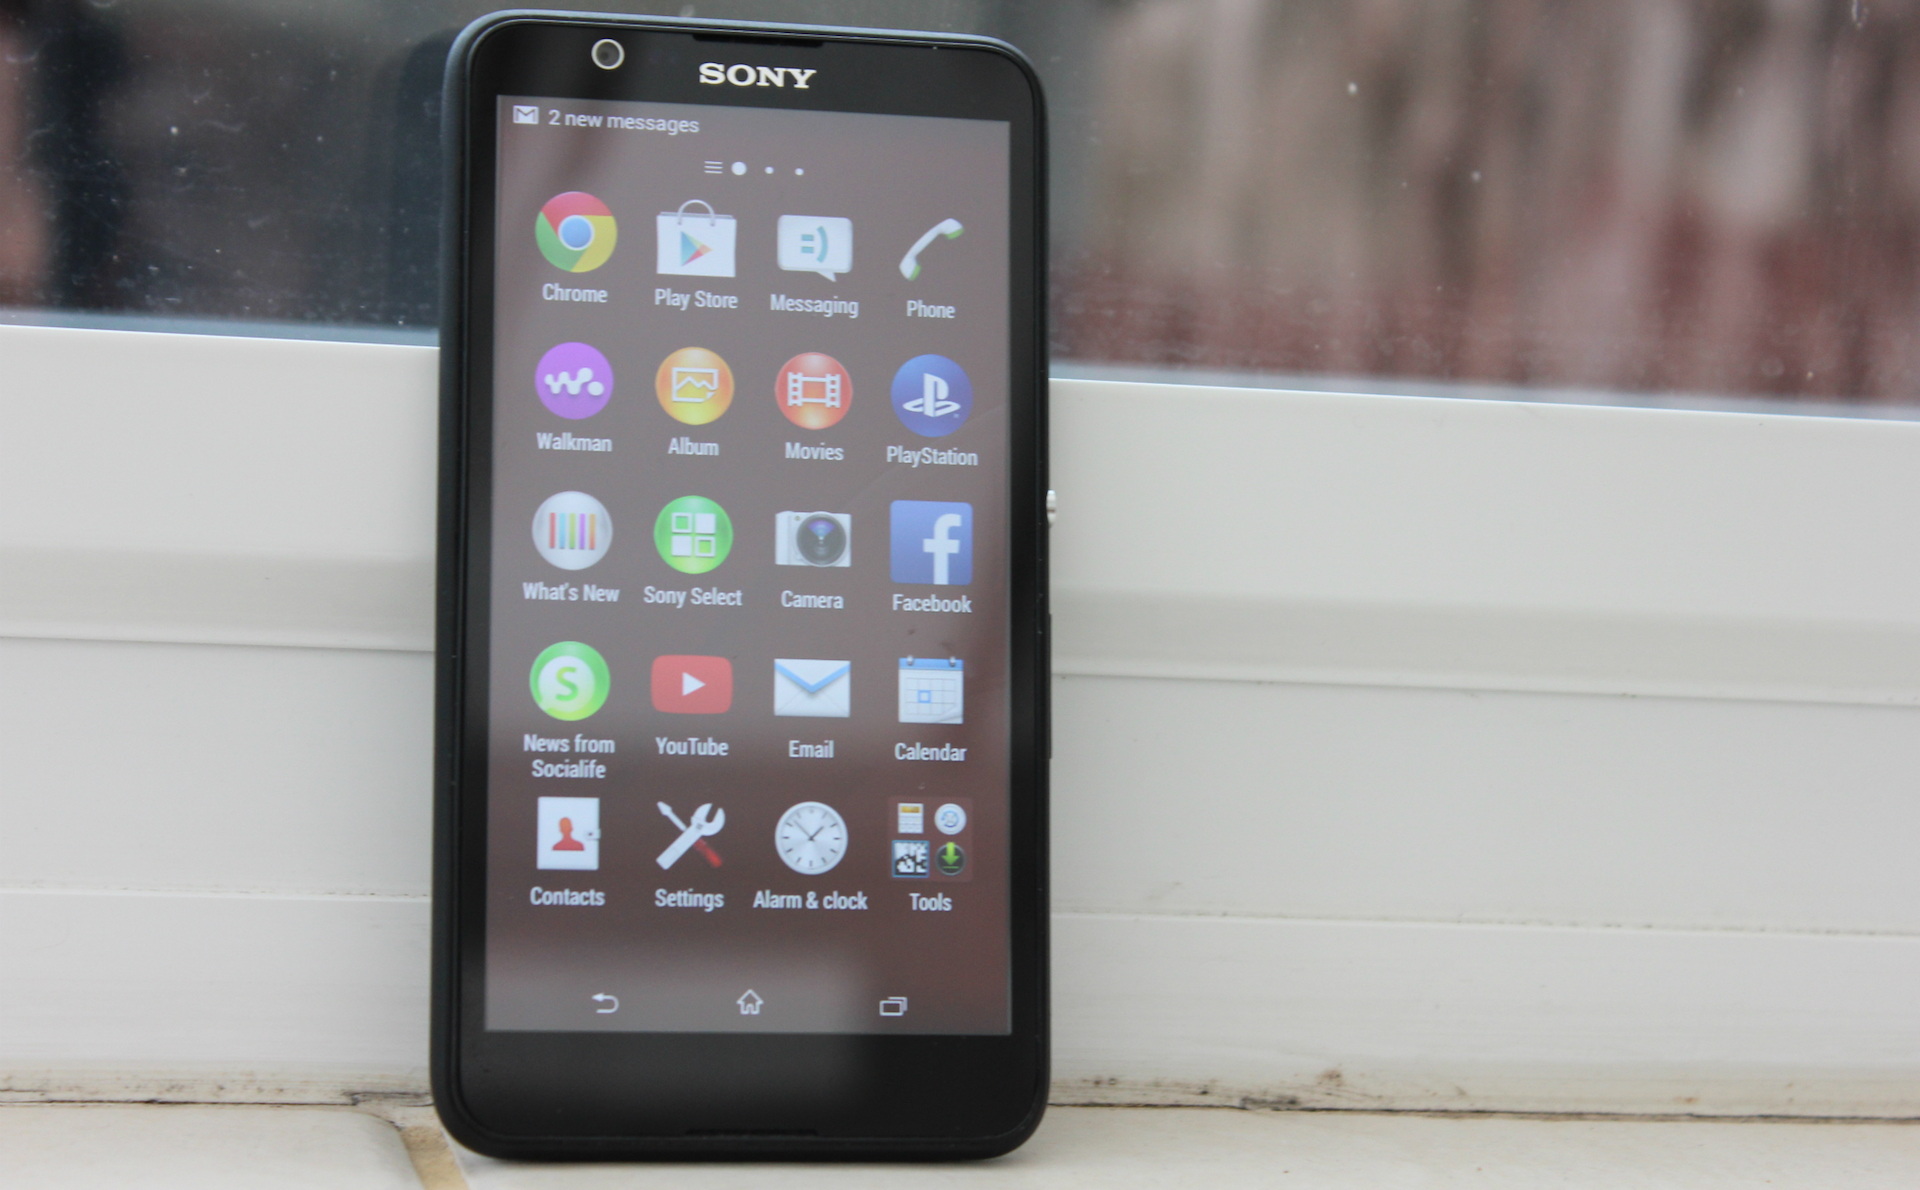smartphone: (427, 5, 1059, 1158)
